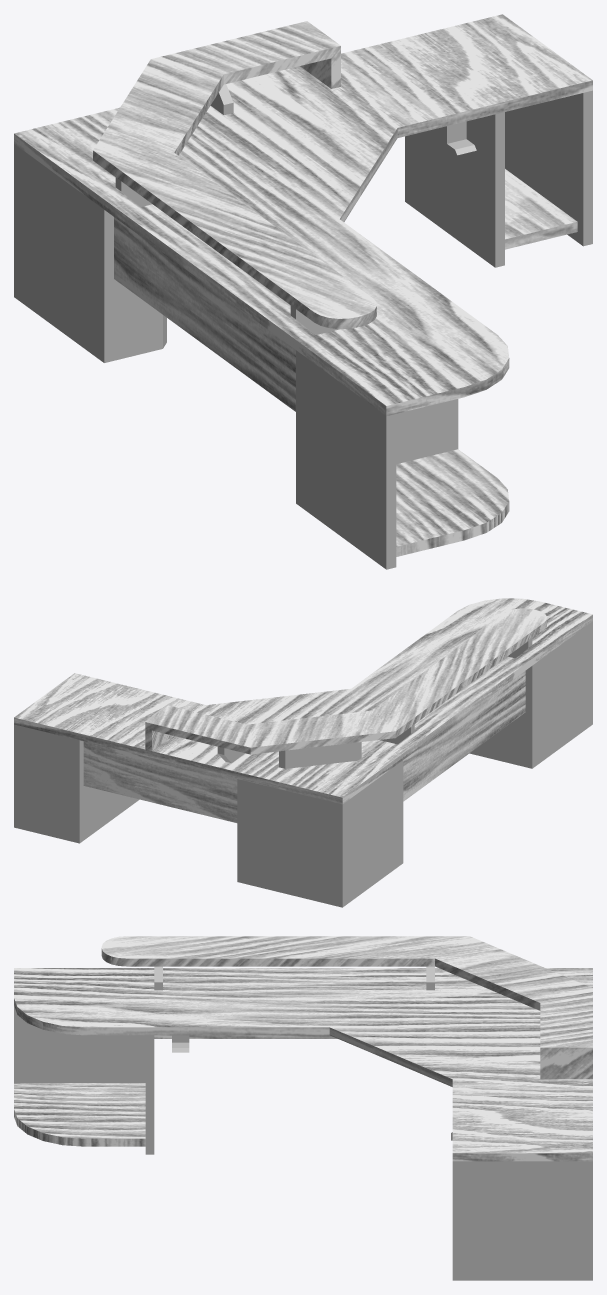
Rendered from Desk1.fbx.
The picture shows the model from 3 angles, top to bottom: view 1: azimuth 30°, elevation 25°; view 2: azimuth 150°, elevation 25°; view 3: azimuth 270°, elevation 25°; orthographic projection. The views are drawn at different scales.
Parts seen in each view (by area): view 1: Desk1; view 2: Desk1; view 3: Desk1.
Part boxes in pixels (x1=…): Desk1: x1=14, y1=14, x2=592, y2=569; Desk1: x1=14, y1=598, x2=592, y2=907; Desk1: x1=14, y1=936, x2=592, y2=1280.
Bounding box in the file's own units: 2.5 × 1 × 3.3.
